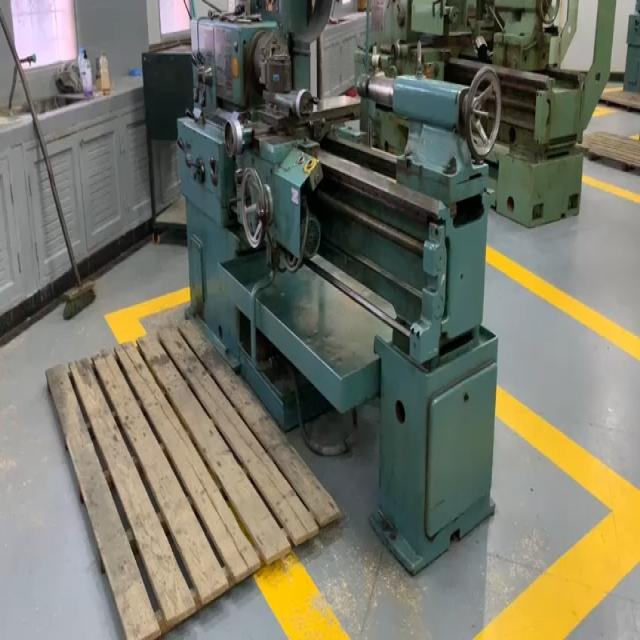tour parallele: (179, 0, 501, 572)
